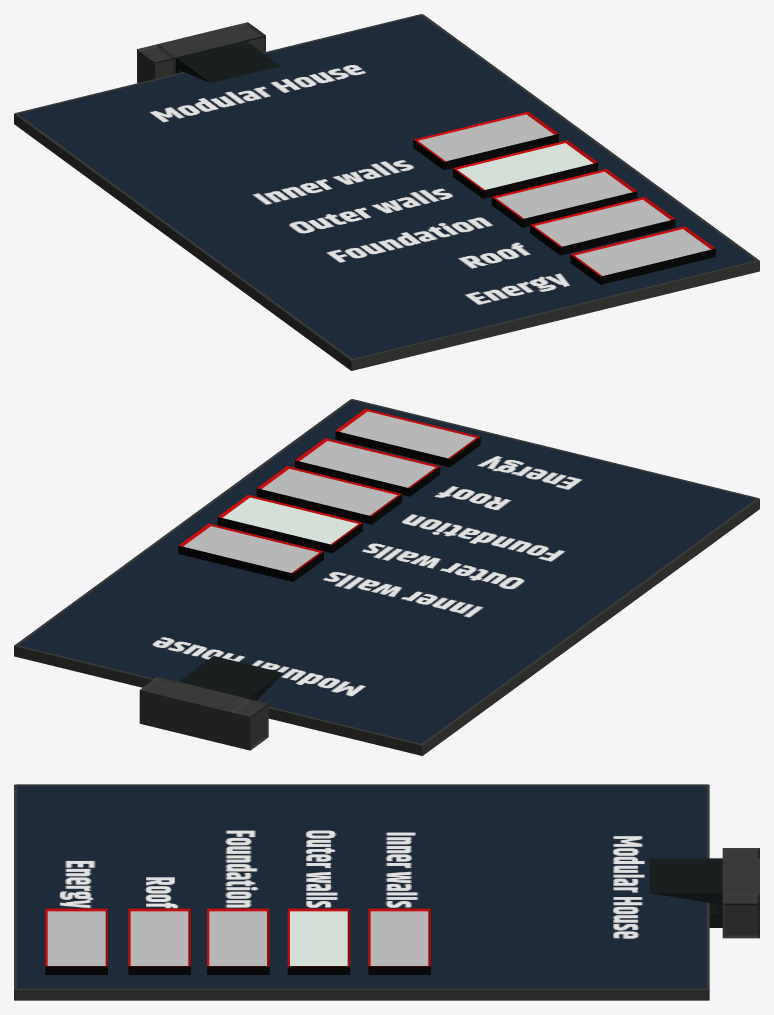
Rendered from clip_haus_house.obj.
3 views of the same model, one above another, from view 1: azimuth 30°, elevation 25°; view 2: azimuth 150°, elevation 25°; view 3: azimuth 270°, elevation 25° (orthographic). The views are drawn at different scales.
Visible parts, largest first — view 1: clipboard_mod_house.001; view 2: clipboard_mod_house.001; view 3: clipboard_mod_house.001.
Part boxes in pixels (<box>): clipboard_mod_house.001: <box>14,14,759,370</box>; clipboard_mod_house.001: <box>14,399,759,755</box>; clipboard_mod_house.001: <box>14,784,759,1000</box>.
Size of the model in its own units: 0.2144 by 0.0169 by 0.3289.
19 materials, 1 textured.
